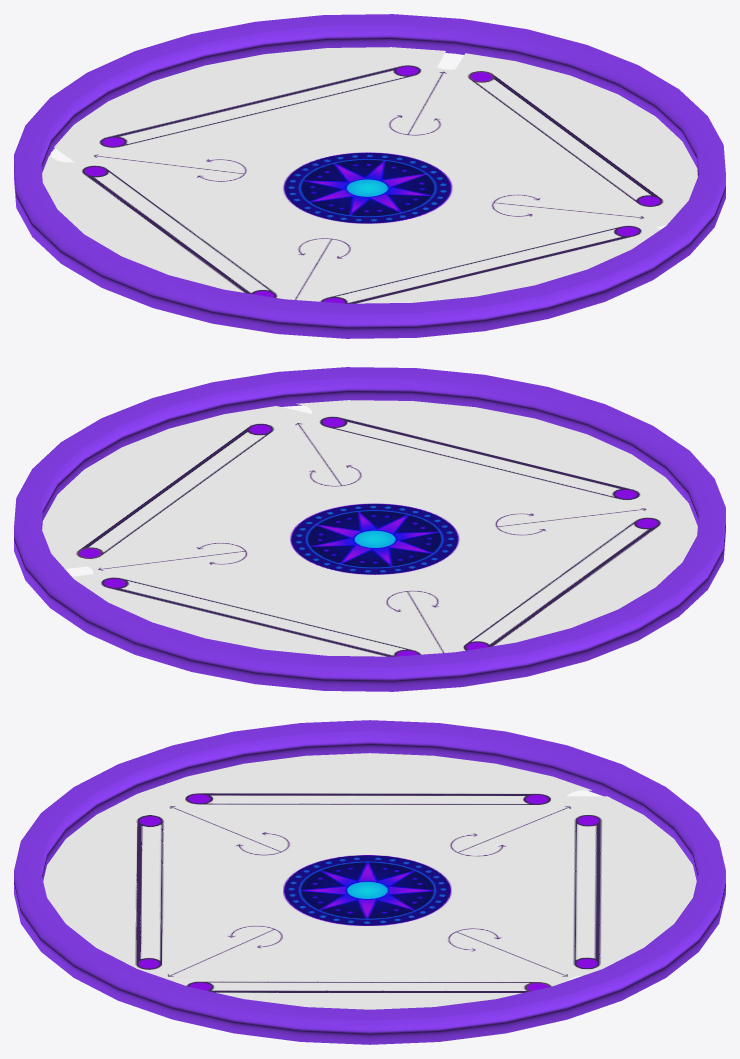
Rendered from CircularBoardNew.fbx.
3 views of the same model, one above another, from view 1: azimuth 30°, elevation 25°; view 2: azimuth 150°, elevation 25°; view 3: azimuth 270°, elevation 25° (orthographic).
Parts seen in each view (by area): view 1: InnderCircle, OuterCircle; view 2: InnderCircle, OuterCircle; view 3: InnderCircle, OuterCircle.
Part boxes in pixels (x1,y1,x2,y2): InnderCircle: (42,47,697,303); OuterCircle: (14,14,725,338); InnderCircle: (42,400,697,656); OuterCircle: (14,367,725,691); InnderCircle: (43,753,696,1009); OuterCircle: (14,720,725,1044).
Size of what is drawn, in the model's own units: 2.18 by 0.0812 by 2.18.
Materials: 2 (1 with a texture image).
